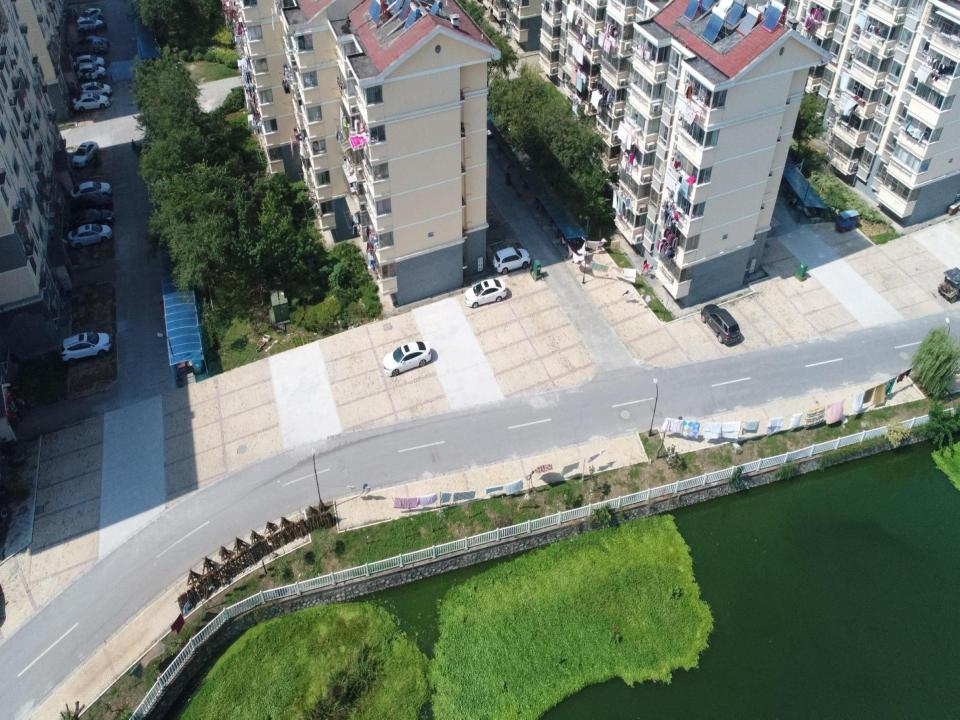car: (381, 341, 432, 378), (700, 304, 740, 345), (61, 333, 112, 364), (464, 277, 506, 309), (493, 246, 531, 274), (71, 140, 99, 169), (73, 94, 110, 112), (76, 65, 106, 79), (76, 55, 105, 68), (80, 82, 110, 94), (77, 7, 102, 18), (76, 16, 103, 26)
truck: (71, 40, 107, 54)
